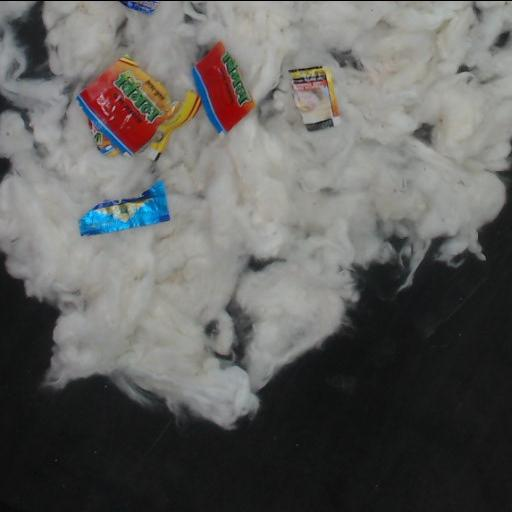conveyor belt: (0, 181, 511, 512), (14, 1, 50, 75), (0, 96, 24, 116), (0, 159, 8, 177)
cotton: (0, 1, 511, 428)
packet: (76, 42, 255, 160), (79, 181, 169, 235), (288, 66, 339, 130), (120, 1, 158, 14), (185, 1, 204, 19)
